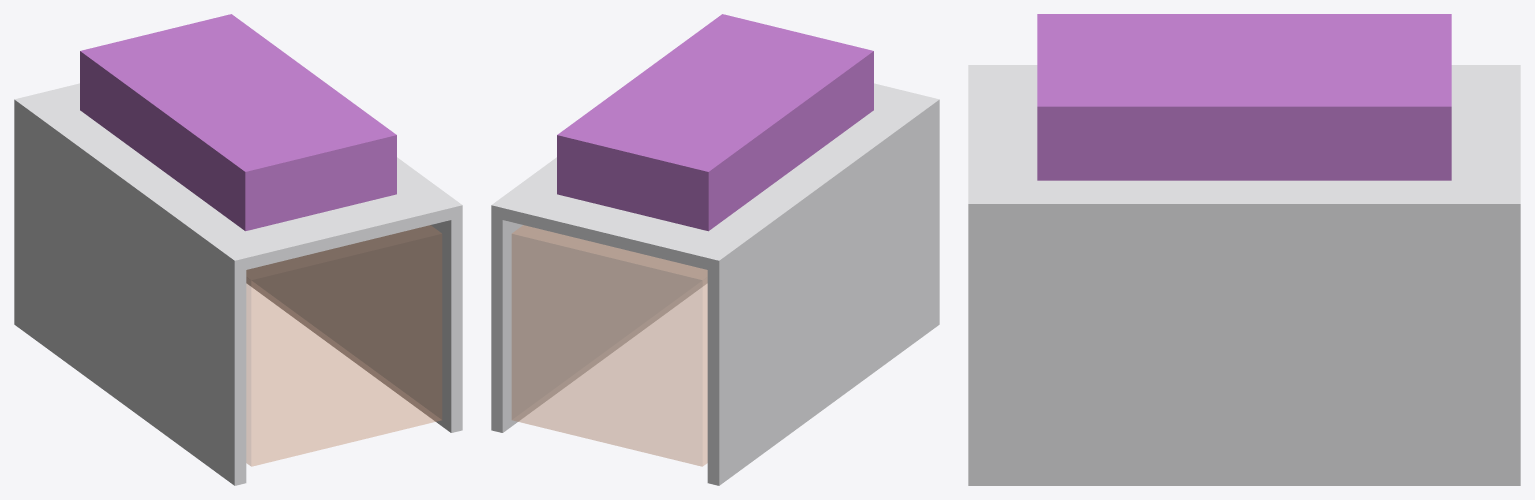
Rendered from DryOven-6m.glb.
3 views of the same model, side by side, from view 1: azimuth 30°, elevation 25°; view 2: azimuth 150°, elevation 25°; view 3: azimuth 270°, elevation 25° (orthographic). The views are drawn at different scales.
Visible parts, largest first — view 1: Shell-Left, Plenum, ProcessZone, Shell-Right, Shell-Roof; view 2: Shell-Left, Plenum, ProcessZone, Shell-Right, Shell-Roof; view 3: Shell-Right, Plenum, Shell-Roof.
Boxes of the visible parts, x1=… form: Shell-Left: x1=14, y1=111, x2=246, y2=485; Plenum: x1=80, y1=14, x2=396, y2=231; ProcessZone: x1=246, y1=225, x2=441, y2=466; Shell-Right: x1=246, y1=217, x2=462, y2=432; Shell-Roof: x1=14, y1=83, x2=462, y2=272; Shell-Left: x1=707, y1=111, x2=939, y2=485; Plenum: x1=557, y1=14, x2=873, y2=231; ProcessZone: x1=512, y1=225, x2=707, y2=466; Shell-Right: x1=491, y1=217, x2=707, y2=432; Shell-Roof: x1=491, y1=83, x2=939, y2=272; Shell-Right: x1=968, y1=219, x2=1520, y2=485; Plenum: x1=1037, y1=14, x2=1451, y2=180; Shell-Roof: x1=968, y1=65, x2=1520, y2=218.
Bounding box in the file's own units: 3.58 × 4.27 × 6.
